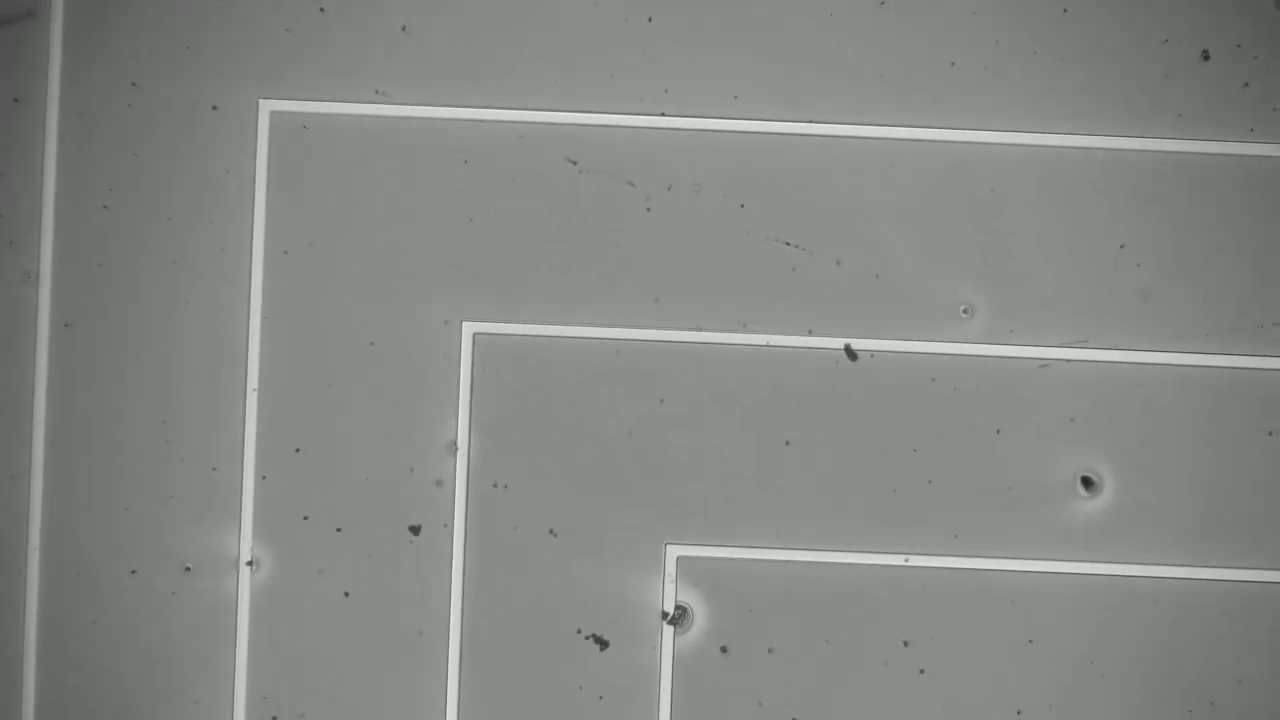stains_enbedded: (227, 543, 268, 582), (655, 596, 689, 632), (840, 330, 865, 367)
